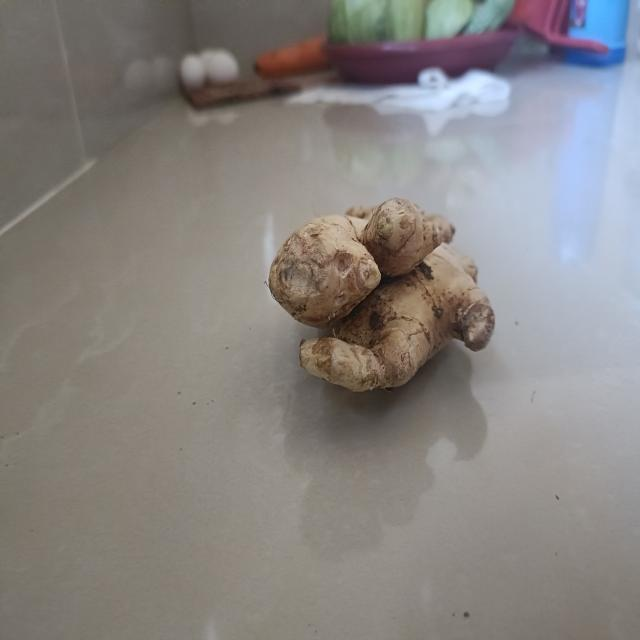ginger: (268, 194, 494, 398)
